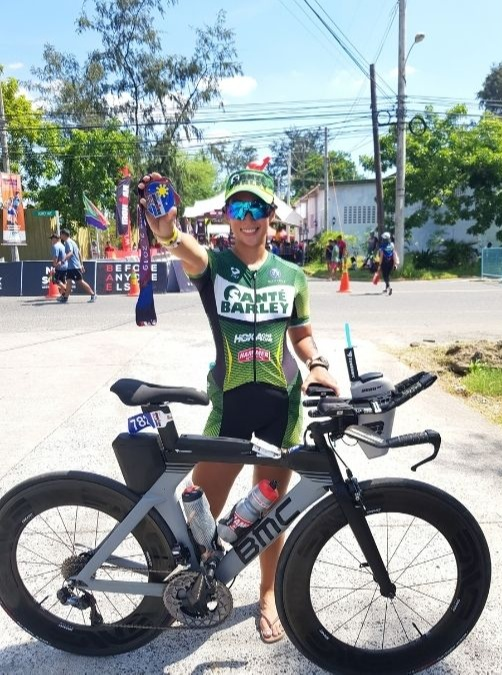bike: (3, 363, 492, 675)
person: (139, 162, 339, 642), (59, 228, 96, 307), (378, 232, 400, 295)
pole: (396, 2, 408, 271)
